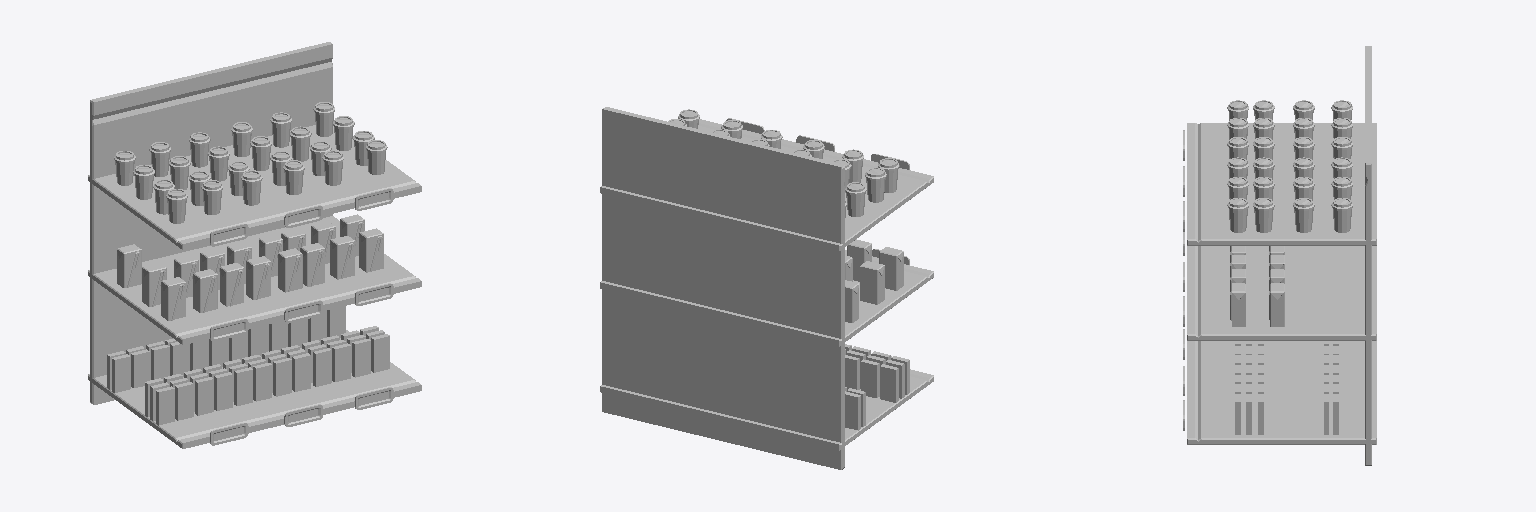
Rendered from estante1.obj.
The picture shows the model from 3 angles: view 1: azimuth 30°, elevation 25°; view 2: azimuth 150°, elevation 25°; view 3: azimuth 270°, elevation 25°; orthographic projection.
Parts seen in each view (by area): view 1: Estante2:hypercasual_prop160; view 2: Estante2:hypercasual_prop160; view 3: Estante2:hypercasual_prop160.
Boxes of the visible parts, box(x1,y1,x2,y2) form: Estante2:hypercasual_prop160: box(88, 42, 421, 448); Estante2:hypercasual_prop160: box(600, 107, 933, 469); Estante2:hypercasual_prop160: box(1183, 46, 1376, 465).
Size of the model in its own units: 5.79 by 6.96 by 4.02.